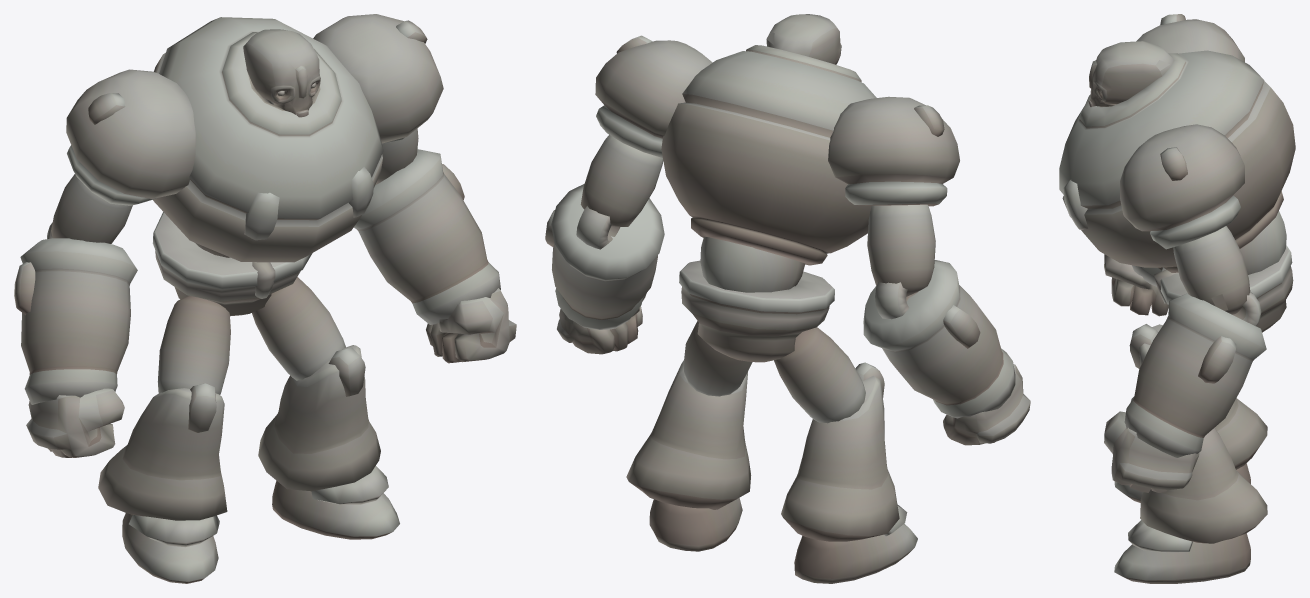
The model's file is GiantRobot.fbx.
3 views of the same model, side by side, from view 1: azimuth 30°, elevation 25°; view 2: azimuth 150°, elevation 25°; view 3: azimuth 270°, elevation 25° (orthographic). The views are drawn at different scales.
Parts seen in each view (by area): view 1: Chest, ForeArmR, ForeArmL, ShoulderR, ForeLegR, ForeLegL, ShoulderL, Pelvis, FootL, LegR, LegL, FootR (+5 smaller); view 2: Chest, ForeArmR, ForeLegR, ShoulderR, ForeLegL, ForeArmL, Pelvis, ShoulderL, ArmR, ArmL, LegR, FootR (+6 smaller); view 3: Chest, ForeArmL, ShoulderL, ForeLegL, FootL, ArmL, HandL, Head, ForeLegR, Pelvis, ShoulderR, HandR (+3 smaller).
Part boxes in pixels (bbox=[...]): Chest: bbox=[153, 17, 383, 262]; ForeArmR: bbox=[14, 238, 137, 404]; ForeArmL: bbox=[354, 149, 500, 324]; ShoulderR: bbox=[66, 69, 195, 205]; ForeLegR: bbox=[98, 383, 227, 520]; ForeLegL: bbox=[258, 345, 380, 491]; ShoulderL: bbox=[313, 14, 443, 143]; Pelvis: bbox=[152, 212, 312, 316]; FootL: bbox=[272, 466, 399, 539]; LegR: bbox=[157, 296, 230, 394]; LegL: bbox=[252, 277, 345, 380]; FootR: bbox=[122, 513, 219, 583]; Chest: bbox=[661, 45, 876, 265]; ForeArmR: bbox=[863, 260, 1015, 418]; ForeLegR: bbox=[781, 362, 899, 541]; ShoulderR: bbox=[828, 96, 959, 206]; ForeLegL: bbox=[626, 360, 751, 509]; ForeArmL: bbox=[545, 184, 664, 329]; Pelvis: bbox=[679, 260, 834, 362]; ShoulderL: bbox=[595, 35, 712, 157]; ArmR: bbox=[867, 204, 935, 319]; ArmL: bbox=[576, 134, 663, 249]; LegR: bbox=[774, 327, 865, 423]; FootR: bbox=[794, 504, 917, 583]; Chest: bbox=[1059, 50, 1295, 272]; ForeArmL: bbox=[1124, 293, 1266, 457]; ShoulderL: bbox=[1120, 124, 1244, 249]; ForeLegL: bbox=[1131, 397, 1267, 543]; FootL: bbox=[1114, 520, 1250, 583]; ArmL: bbox=[1173, 226, 1261, 326]; HandL: bbox=[1104, 411, 1199, 492]; Head: bbox=[1088, 41, 1174, 106]; ForeLegR: bbox=[1129, 324, 1267, 469]; Pelvis: bbox=[1154, 245, 1293, 332]; ShoulderR: bbox=[1136, 14, 1244, 62]; HandR: bbox=[1104, 254, 1168, 316].
Bounding box in the file's own units: 0.0788 × 0.0847 × 0.0368.
1 material, 1 textured.
